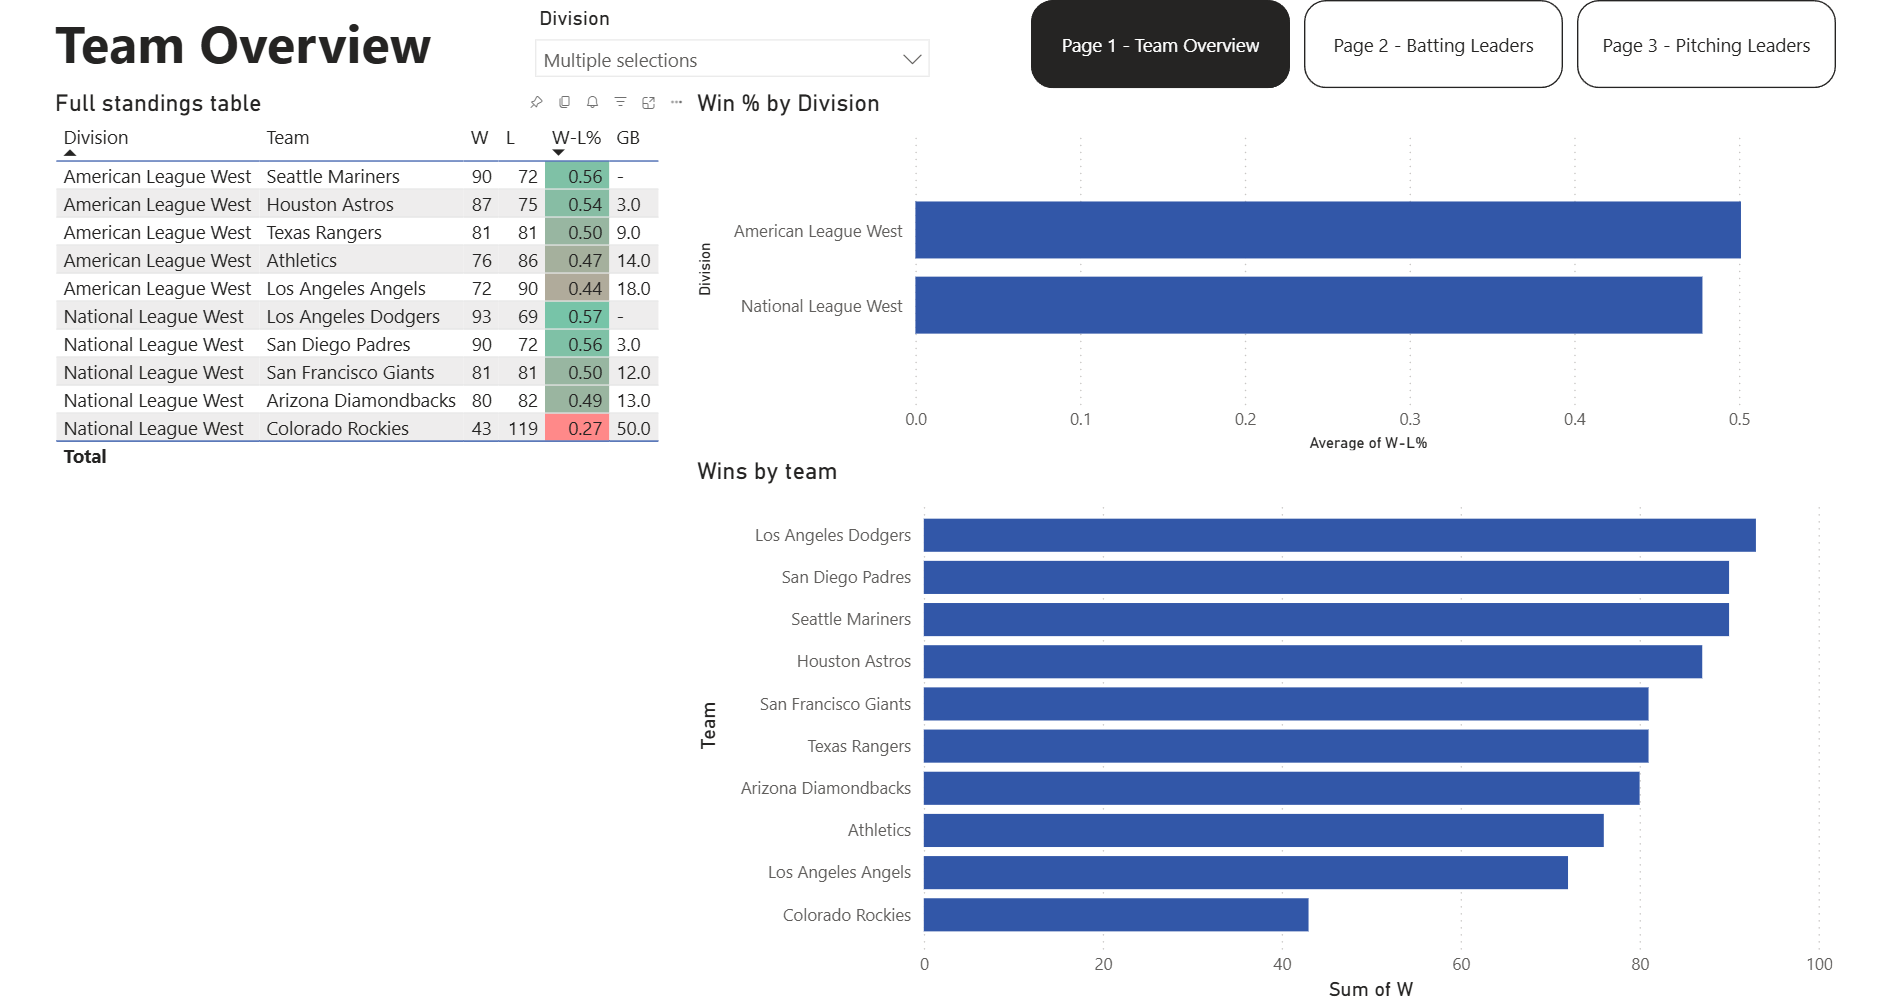

What the dashboard file says about the page in this screenshot:
{"tool":"powerbi","page":{"name":"Page 1 - Team Overview ","canvas":[1280,720],"ordinal":0},"visuals":[{"type":"tableEx","title":"Full standings table","fields":{"Values":["standings_clean.Division","standings_clean.Team","standings_clean.W","standings_clean.L","standings_clean.W-L%","standings_clean.GB"]},"box":[0,63.3,458.9,656.7],"z":0},{"type":"barChart","title":"Wins by team","fields":{"Category":["standings_clean.Team"],"Y":["Sum(standings_clean.W)"]},"box":[458.9,326.7,821.1,393.3],"z":1000},{"type":"clusteredBarChart","title":"Win % by Division","fields":{"Category":["standings_clean.Division"],"Y":["Avg(standings_clean.W-L%)"]},"box":[458.9,63.3,821.1,263.3],"z":2000},{"type":"slicer","title":"Division filter","fields":{"Values":["standings_clean.Division"]},"box":[337.8,0,302.2,63.3],"z":3000},{"type":"pageNavigator","box":[702.2,0,577.8,63.3],"z":4000},{"type":"textbox","box":[0,0,283.3,63.3],"z":5000}]}

Visuals, with their boxes on the page's 1280x720 design canvas (x1, y1, x2, y2). These are canvas units, not pixel positions in the 1883x1002 screenshot, which may show the page scaled, cropped or inside an application window:
"Full standings table" tableEx: select_region(0, 63, 459, 720)
"Wins by team" barChart: select_region(459, 327, 1280, 720)
"Win % by Division" clusteredBarChart: select_region(459, 63, 1280, 327)
"Division filter" slicer: select_region(338, 0, 640, 63)
pageNavigator: select_region(702, 0, 1280, 63)
textbox: select_region(0, 0, 283, 63)
